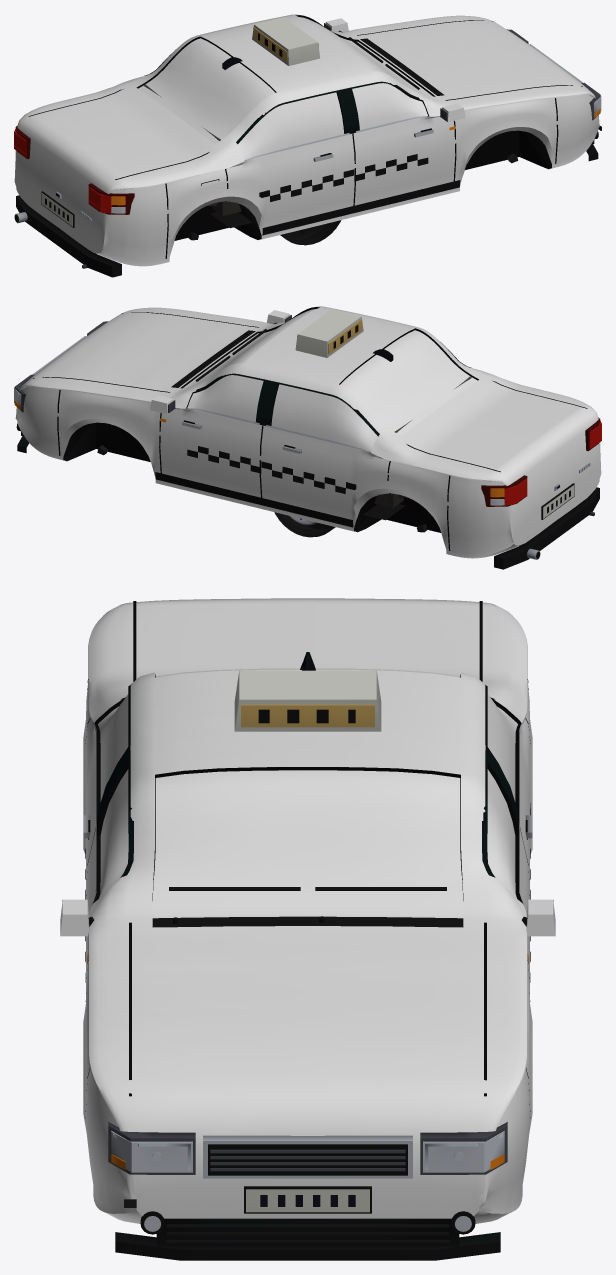
The model's file is taxi-hi.glb.
3 renders of one model, top to bottom at view 1: azimuth 30°, elevation 25°; view 2: azimuth 150°, elevation 25°; view 3: azimuth 270°, elevation 25°, orthographic. The views are drawn at different scales.
Parts seen in each view (by area): view 1: paint, detail, glass, wheel; view 2: paint, detail, glass, wheel; view 3: paint, detail, glass.
Part boxes in pixels (x1,y1,x2,y2): paint: (14,14,599,266); detail: (14,15,601,277); glass: (138,17,432,160); wheel: (280,220,341,245); paint: (15,306,601,558); detail: (14,307,601,569); glass: (183,309,477,452); wheel: (274,512,335,537); paint: (60,598,555,1223); detail: (62,601,553,1260); glass: (98,668,517,916).
Bounding box in the file's own units: 1.6 × 0.6373 × 0.6699.
